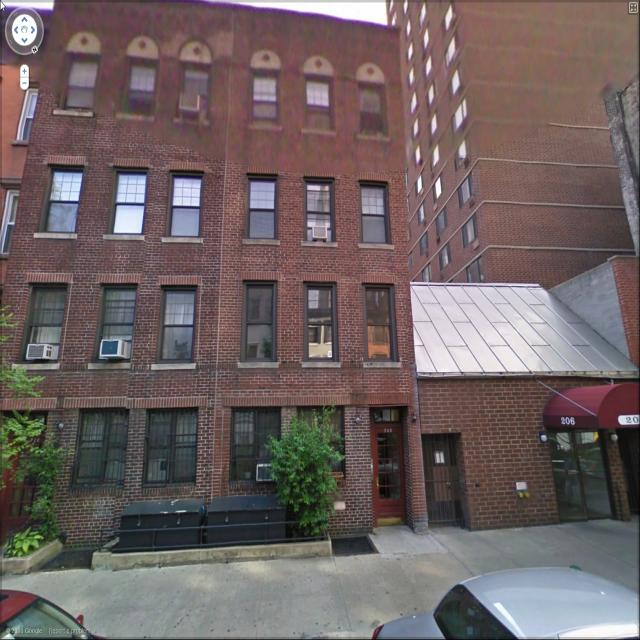b_1: (16, 4, 232, 487), (228, 10, 416, 526), (399, 8, 627, 275), (414, 274, 630, 533)
